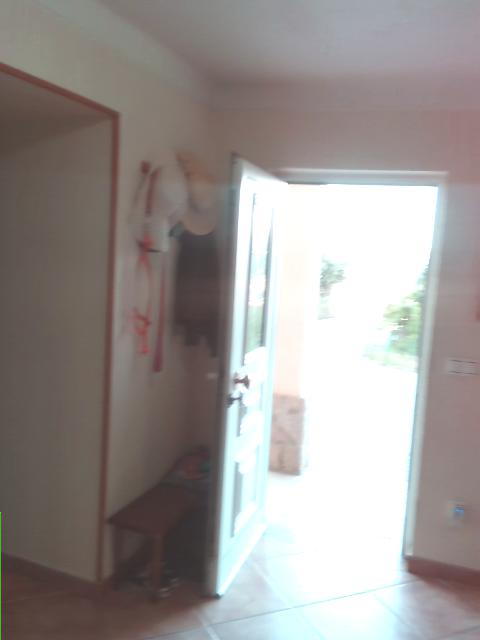open_door: (235, 166, 448, 567)
